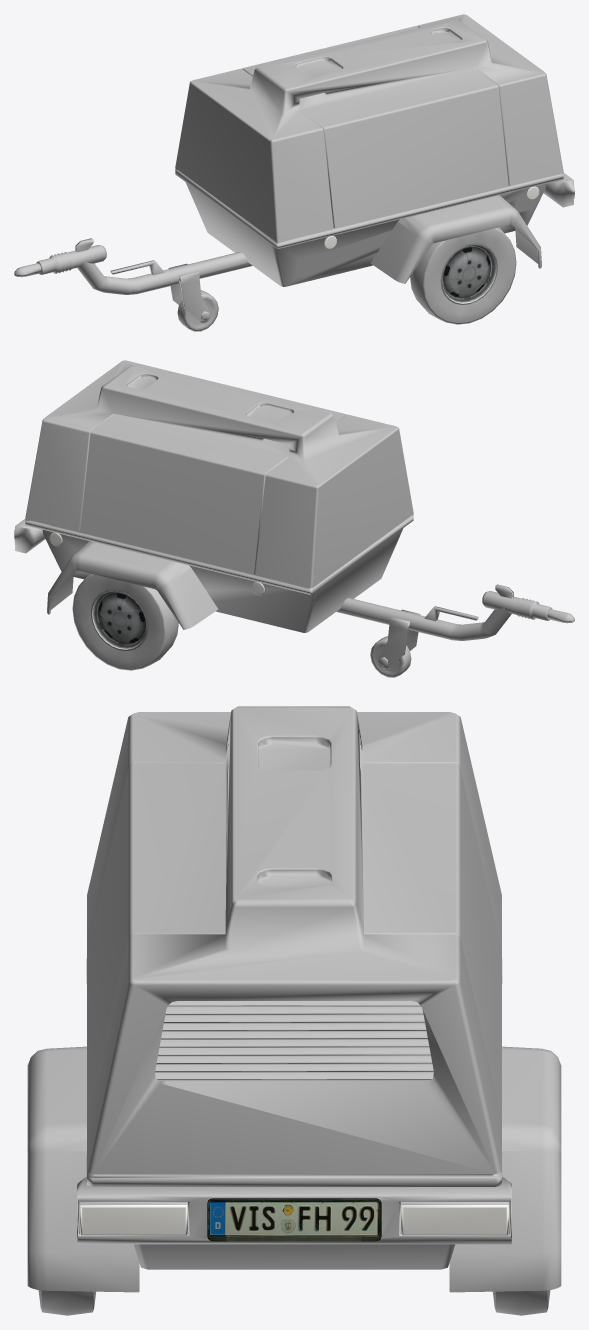
Rendered from kompressor.fbx.
The picture shows the model from 3 angles, top to bottom: view 1: azimuth 30°, elevation 25°; view 2: azimuth 150°, elevation 25°; view 3: azimuth 270°, elevation 25°; orthographic projection. The views are drawn at different scales.
Visible parts, largest first — view 1: Body.floodlight_generator_nolight_model.smd.mesh_0, Mesh; view 2: Body.floodlight_generator_nolight_model.smd.mesh_0, Mesh; view 3: Body.floodlight_generator_nolight_model.smd.mesh_0, Mesh.
Boxes of the visible parts, x1,y1,x2,y2 form: Body.floodlight_generator_nolight_model.smd.mesh_0: [14, 14, 574, 331]; Mesh: [410, 227, 516, 324]; Body.floodlight_generator_nolight_model.smd.mesh_0: [14, 360, 574, 677]; Mesh: [72, 573, 178, 670]; Body.floodlight_generator_nolight_model.smd.mesh_0: [27, 706, 561, 1292]; Mesh: [38, 1290, 550, 1315].
Bounding box in the file's own units: 316 × 139 × 144.
